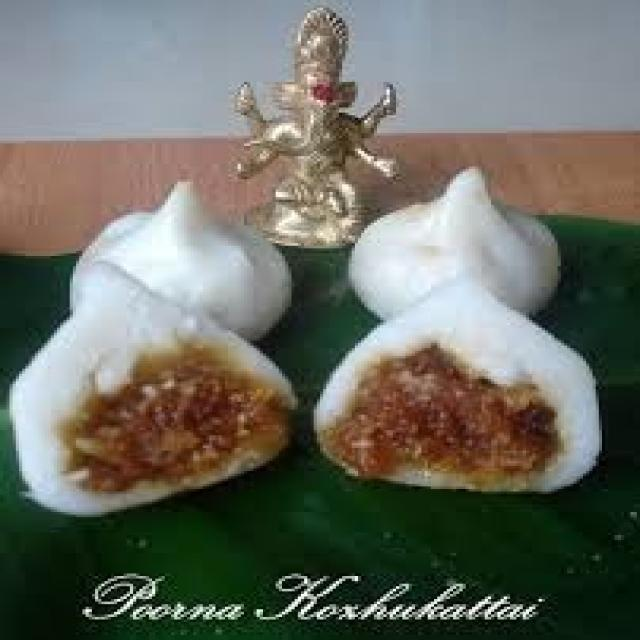poorna kolukattai: (15, 135, 621, 507)
